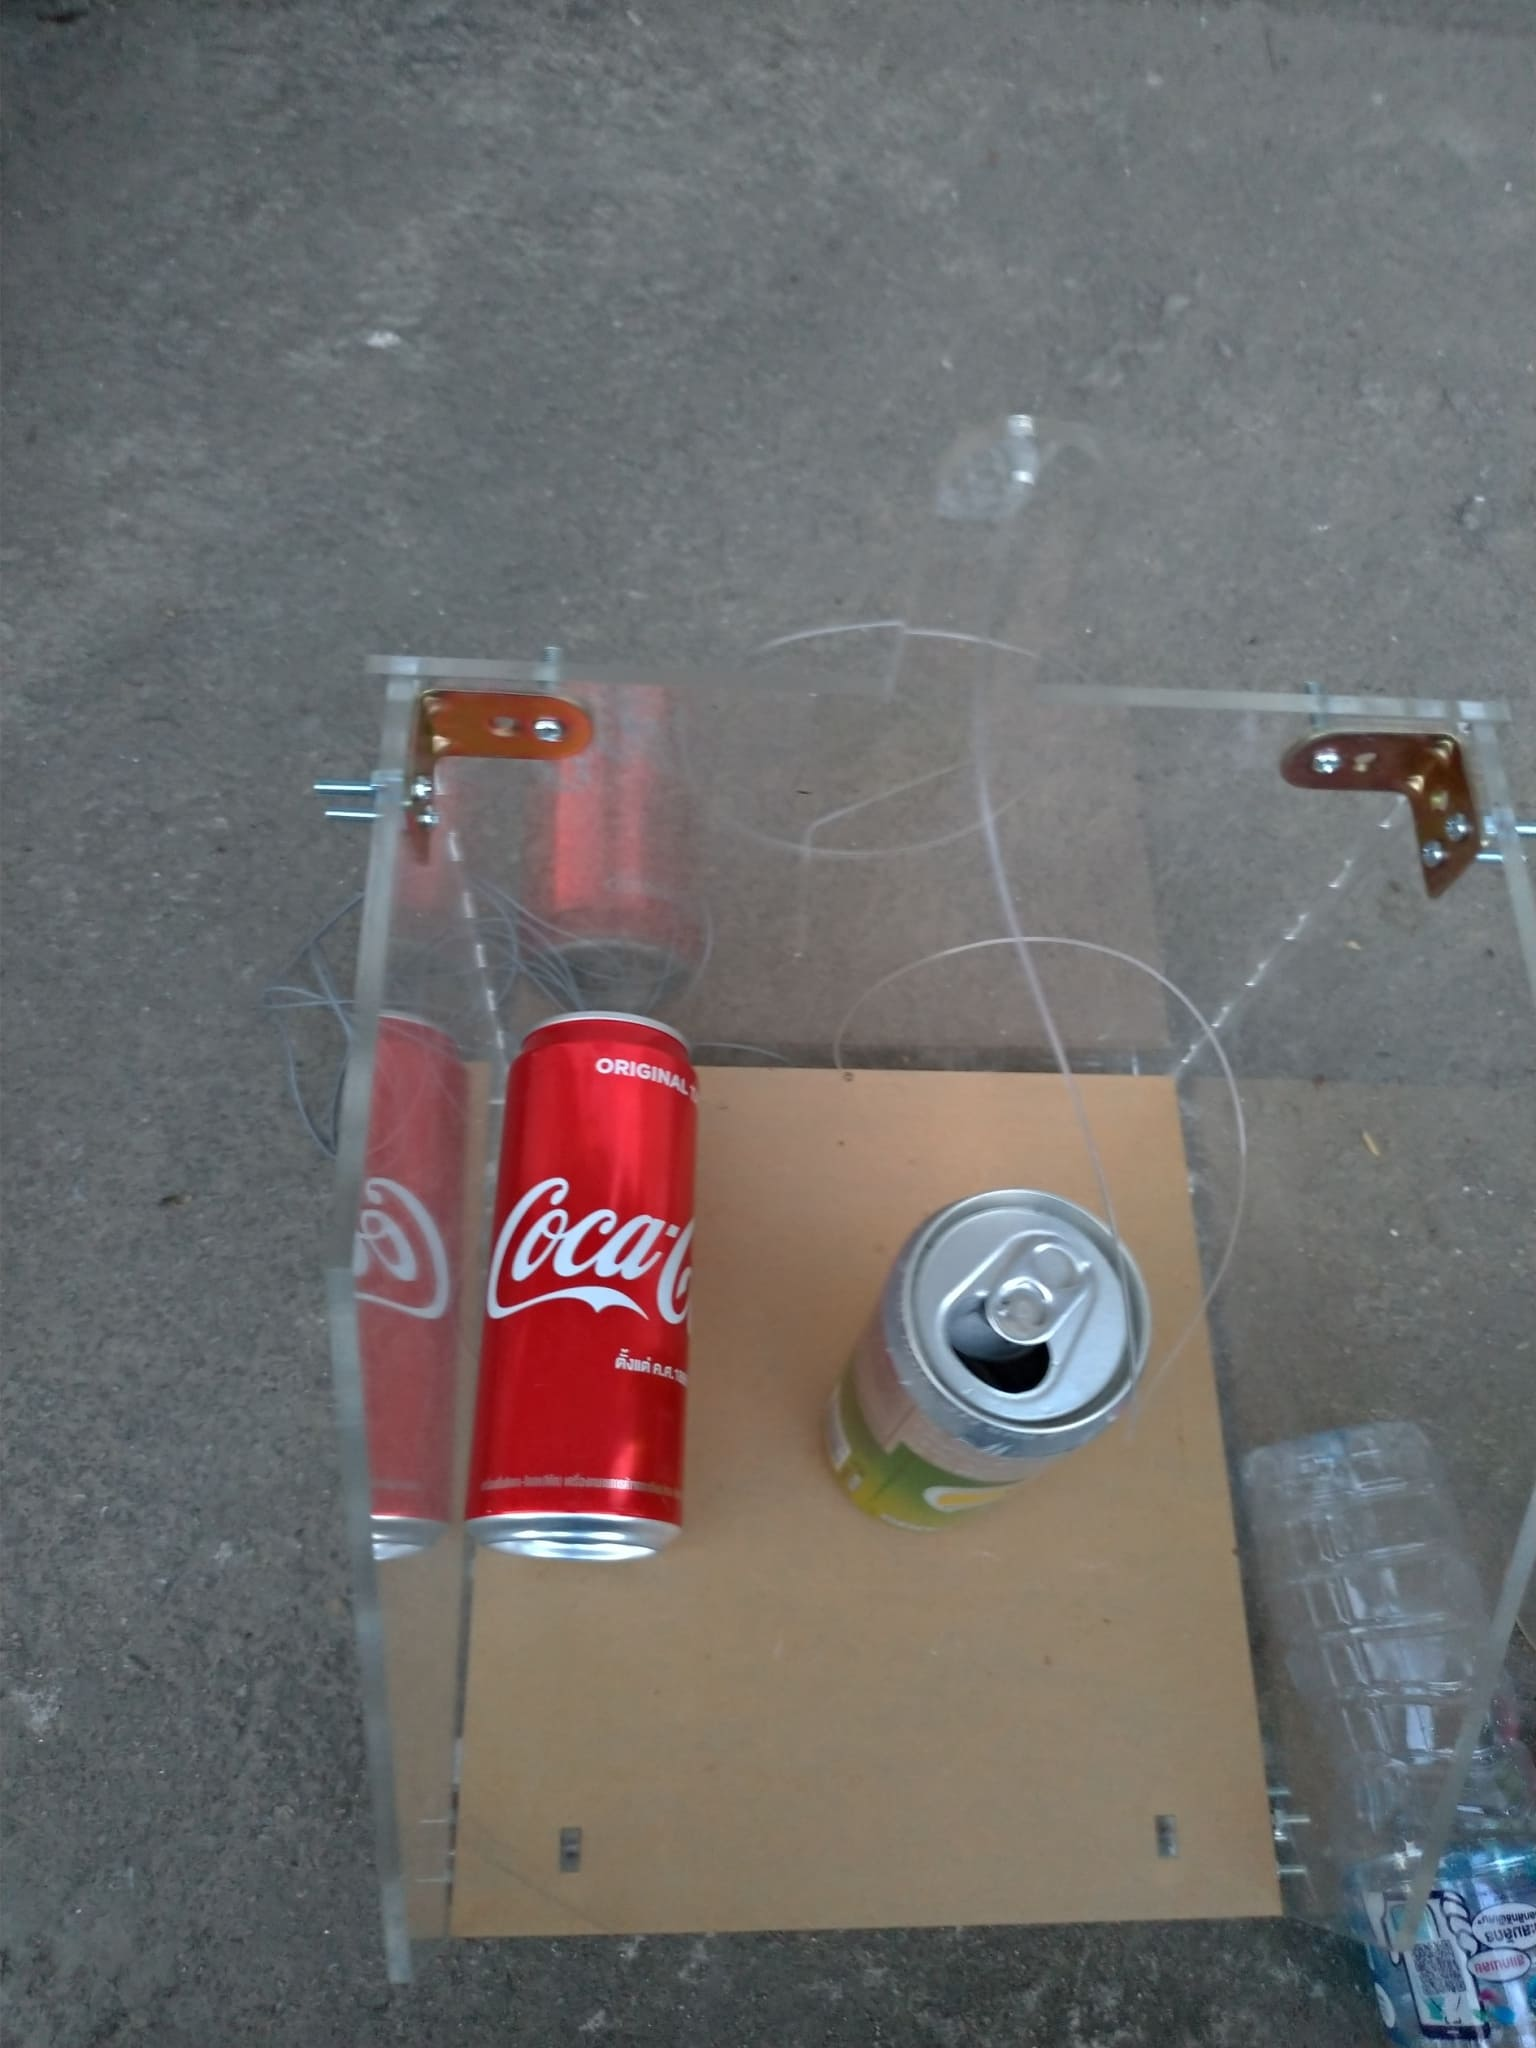AlCan: (461, 1016, 700, 1574), (816, 1177, 1154, 1532)
PlasticBottle: (1238, 1419, 1536, 2019)
